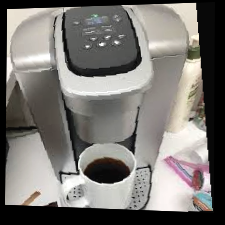10oz: (96, 42, 106, 48)
12oz: (112, 40, 121, 47)
4oz: (88, 35, 98, 42)
6oz: (103, 34, 112, 41)
8oz: (83, 43, 92, 49)
